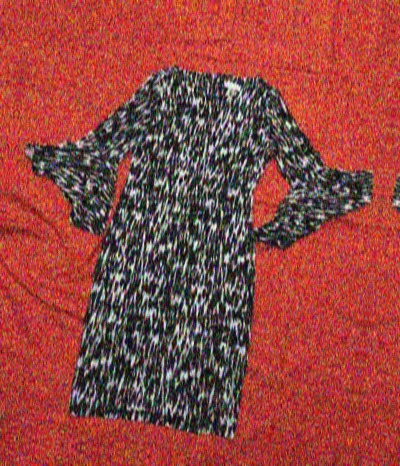Dress: (13, 24, 387, 460), (360, 70, 400, 466), (0, 460, 329, 466)
